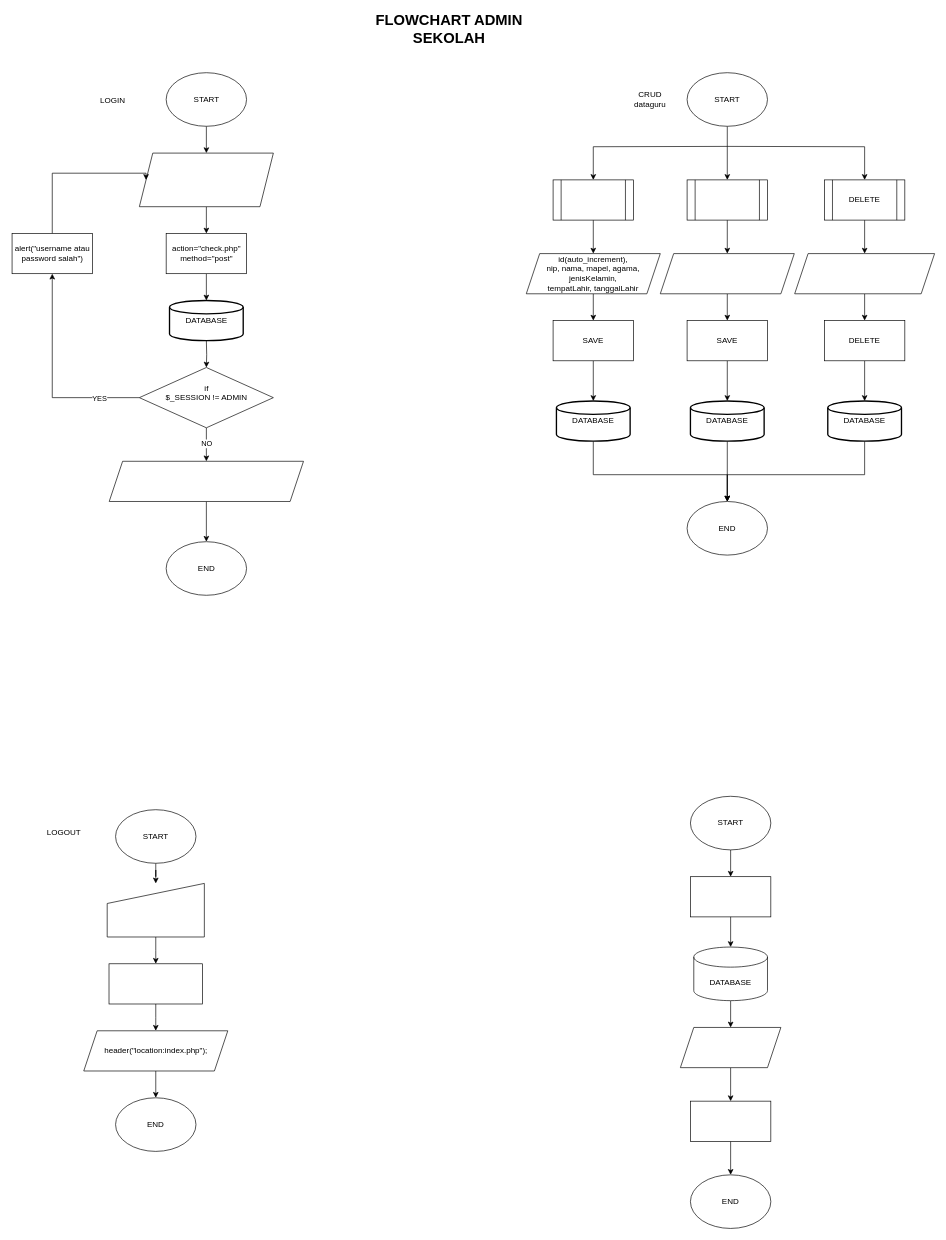
This 946x1240 diagram has some shape labels left out. Here are the shapes that lost their labels. From the top down, the centre of each, then its label:
(206,179): INPUT username=$username; password=$password;
(592,199): INSERT
(726,199): UPDATE
(727,273): nip, nama, mapel, agama, jenisKelamin, tempatLahir, tanggalLahir
(864,273): select id
(206,481): header("location:admin/dashboard.php");
(155,910): KLIK LOGOUT
(730,896): PRINT
(155,983): session_start(); session_unset(); session_destroy();
(730,1047): PREVIEW DATA
(730,1120): DOWNLOAD
